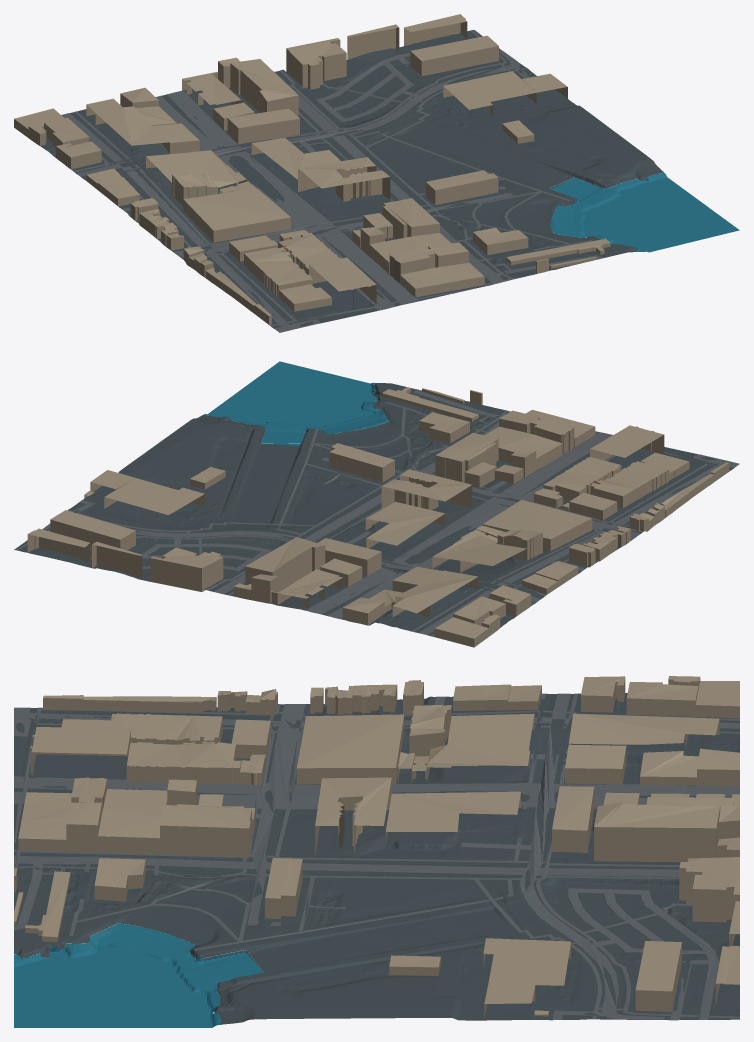
The model's file is epsg26910-1442-10884.lod0.glb.
3 views of the same model, one above another, from view 1: azimuth 30°, elevation 25°; view 2: azimuth 150°, elevation 25°; view 3: azimuth 270°, elevation 25° (orthographic). The views are drawn at different scales.
Parts seen in each view (by area): view 1: epsg26910-1442-10884-lod0; view 2: epsg26910-1442-10884-lod0; view 3: epsg26910-1442-10884-lod0.
Boxes of the visible parts, x1,y1,x2,y2 form: epsg26910-1442-10884-lod0: (14, 14, 739, 332); epsg26910-1442-10884-lod0: (14, 361, 739, 647); epsg26910-1442-10884-lod0: (14, 676, 739, 1027).
Bounding box in the file's own units: 384 × 31.91 × 384.
